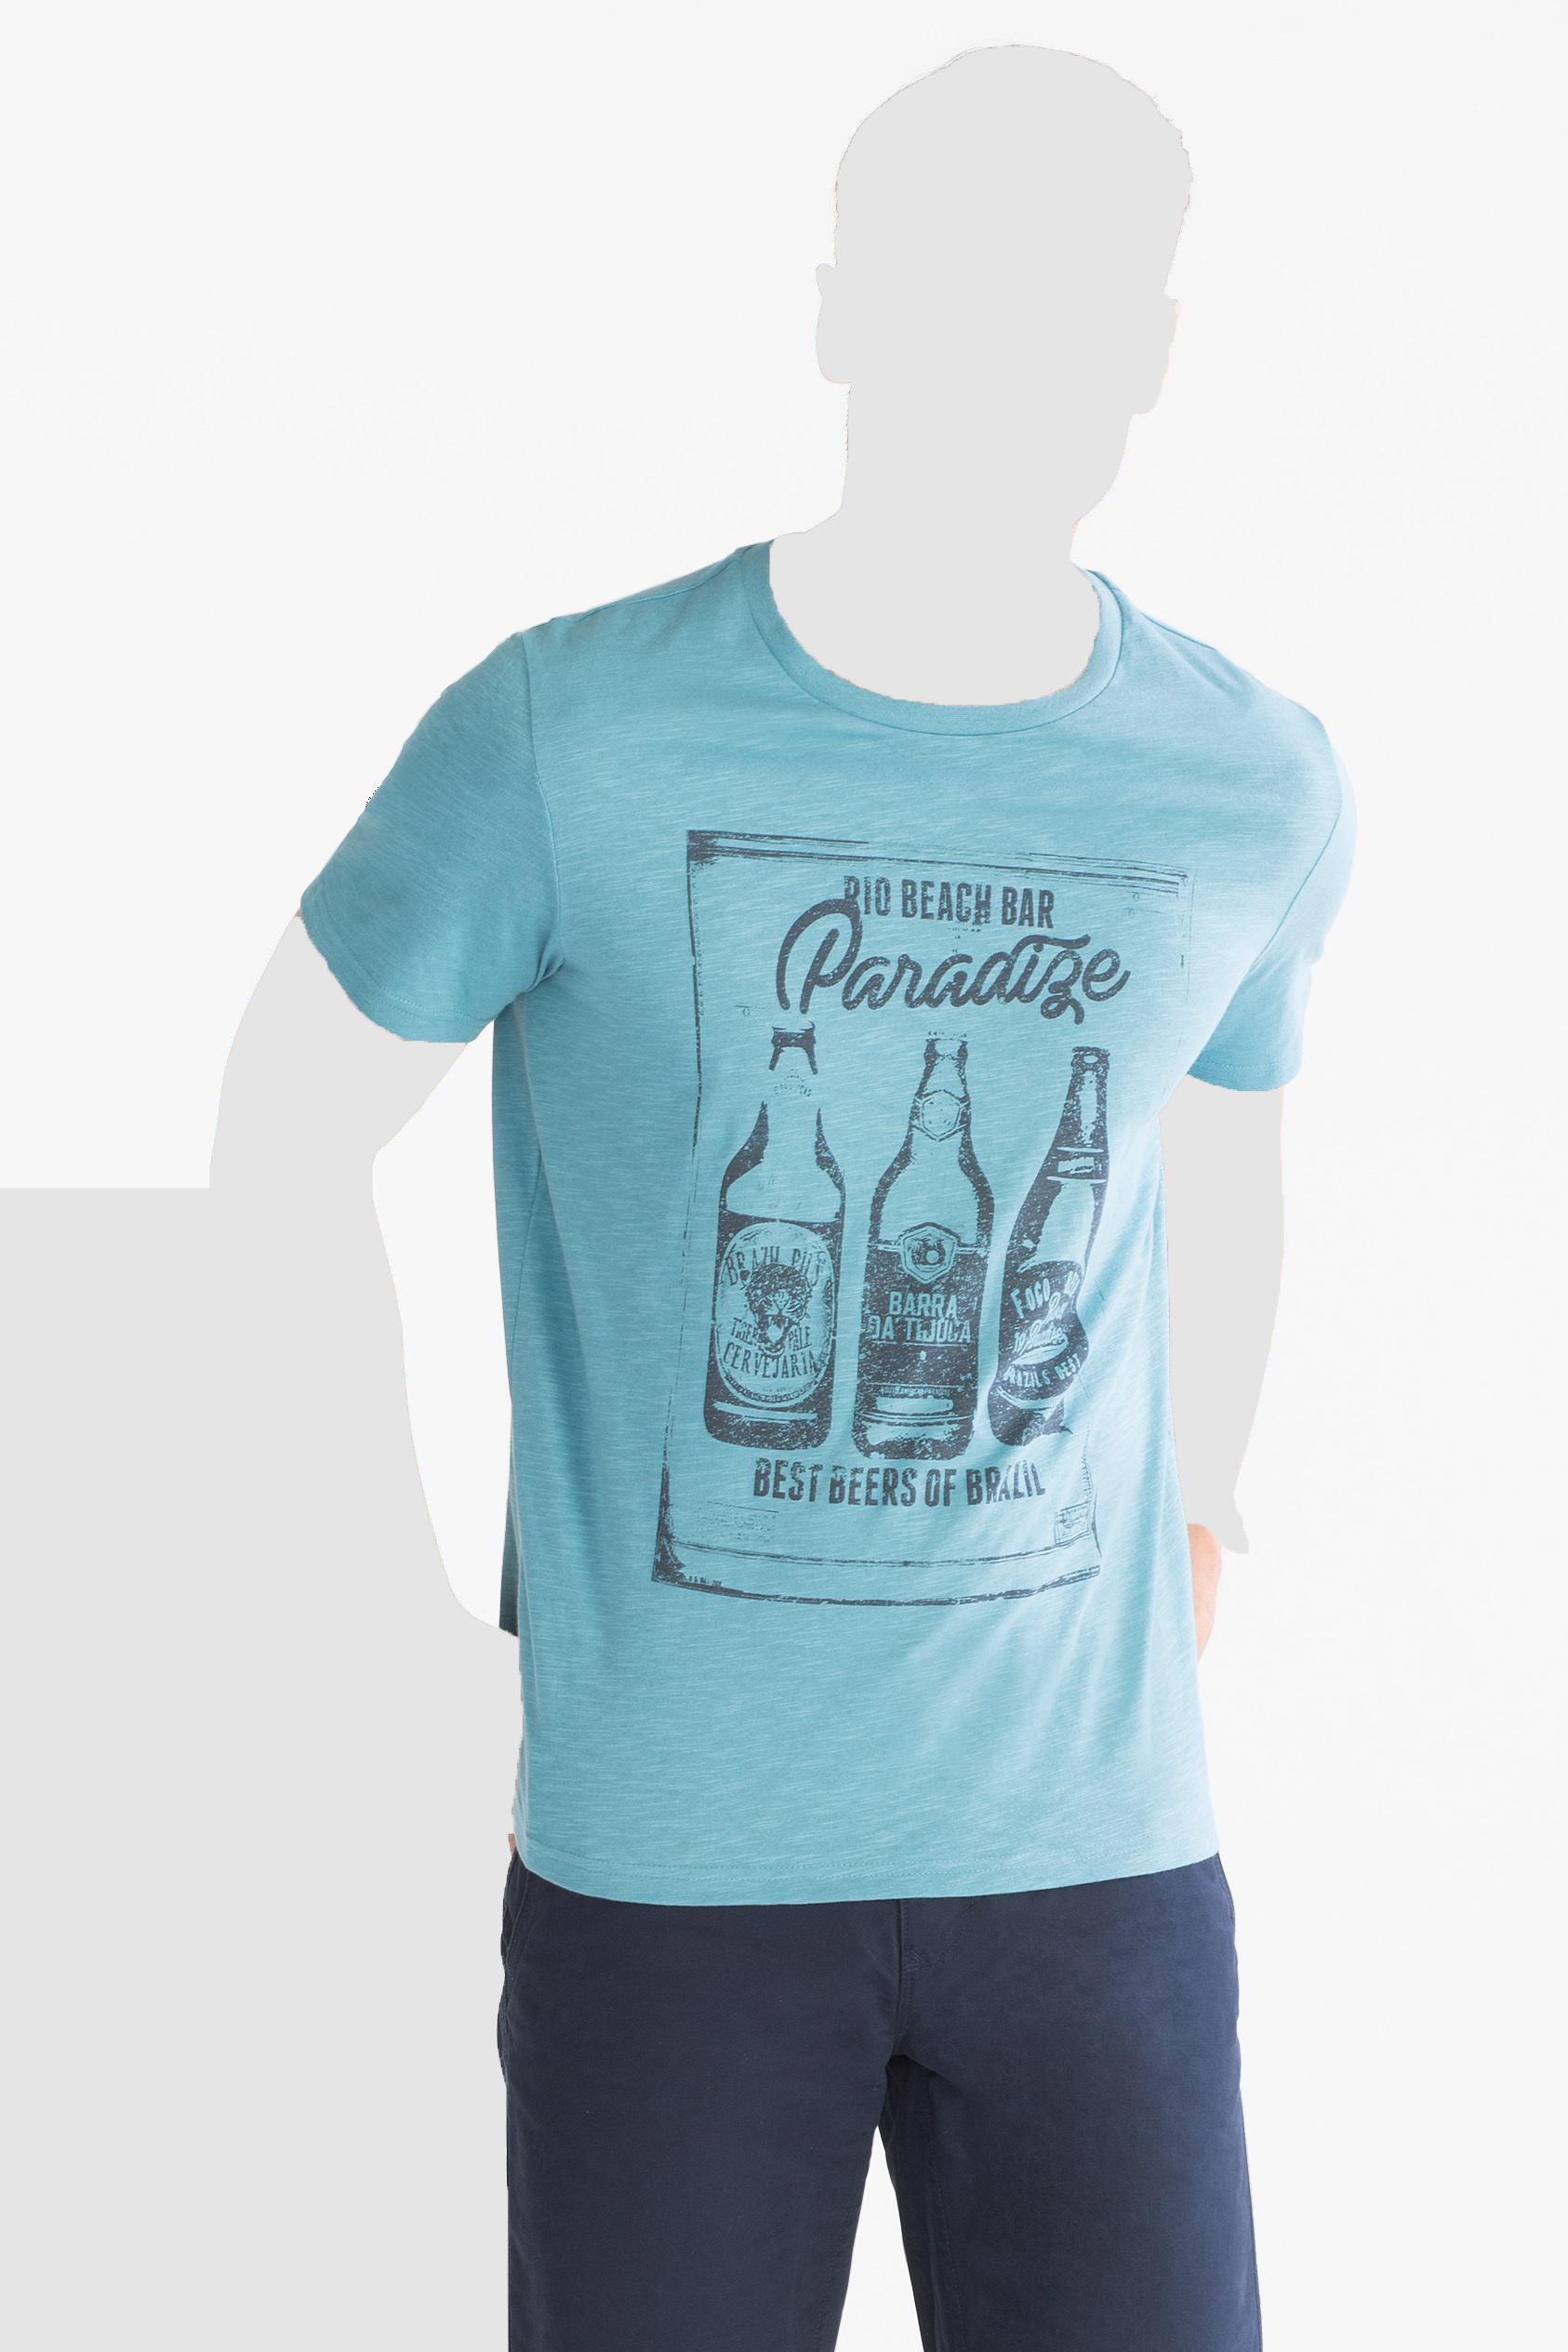teeshirt: (289, 532, 1382, 1951)
